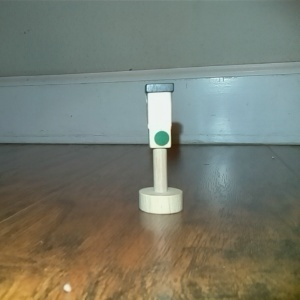traffic light green: (136, 80, 186, 215)
